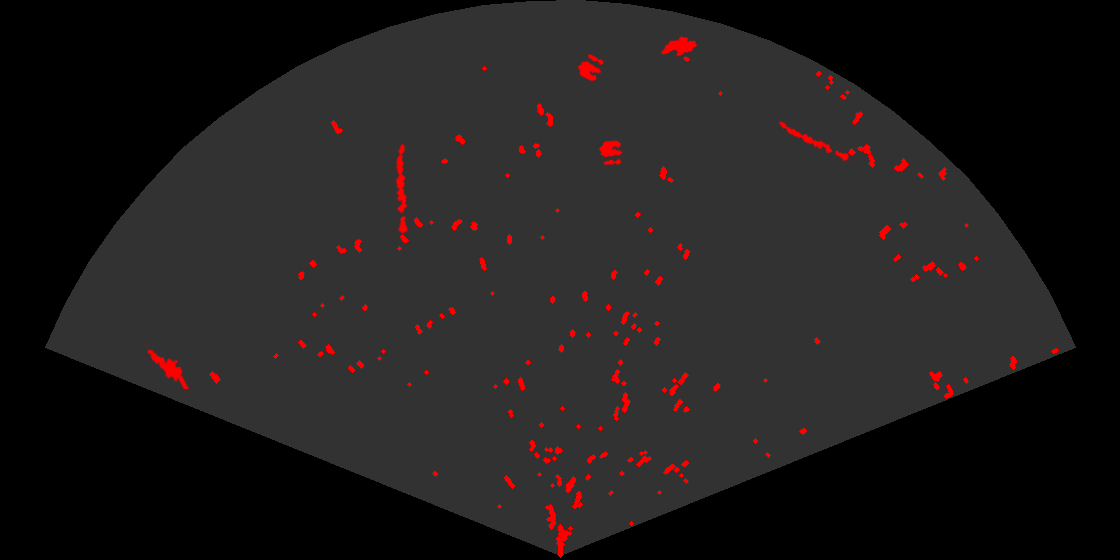AUV: (659, 35, 699, 58)
ball: (576, 53, 605, 83), (598, 139, 624, 167)
chain: (777, 120, 853, 163), (394, 142, 409, 234)
frogman: (144, 340, 189, 389)
